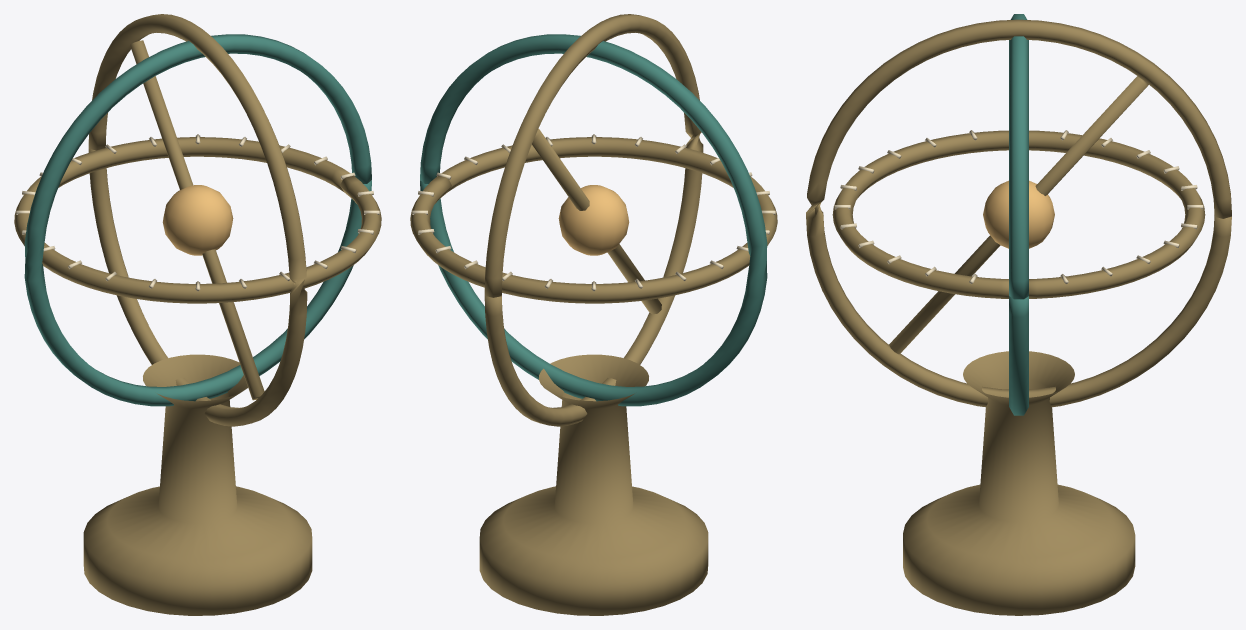
Rendered from armillary-model.glb.
3 views of the same model, side by side, from view 1: azimuth 30°, elevation 25°; view 2: azimuth 150°, elevation 25°; view 3: azimuth 270°, elevation 25° (orthographic).
Visible parts, largest first — view 1: armillary-model__bronze, armillary-model__patina, armillary-model__ochre, armillary-model__linen; view 2: armillary-model__bronze, armillary-model__patina, armillary-model__ochre, armillary-model__linen; view 3: armillary-model__bronze, armillary-model__patina, armillary-model__ochre, armillary-model__linen.
Part boxes in pixels (x1,y1,x2,y2): armillary-model__bronze: (14,14,381,615); armillary-model__patina: (24,34,371,406); armillary-model__ochre: (162,185,233,255); armillary-model__linen: (16,134,379,291); armillary-model__bronze: (410,14,777,615); armillary-model__patina: (420,34,767,406); armillary-model__ochre: (558,185,629,255); armillary-model__linen: (412,134,775,291); armillary-model__bronze: (806,19,1231,615); armillary-model__patina: (1009,14,1028,415); armillary-model__ochre: (983,180,1054,248); armillary-model__linen: (834,130,1203,284).
Size of the model in its own units: 1.01 by 1.5 by 1.06.
